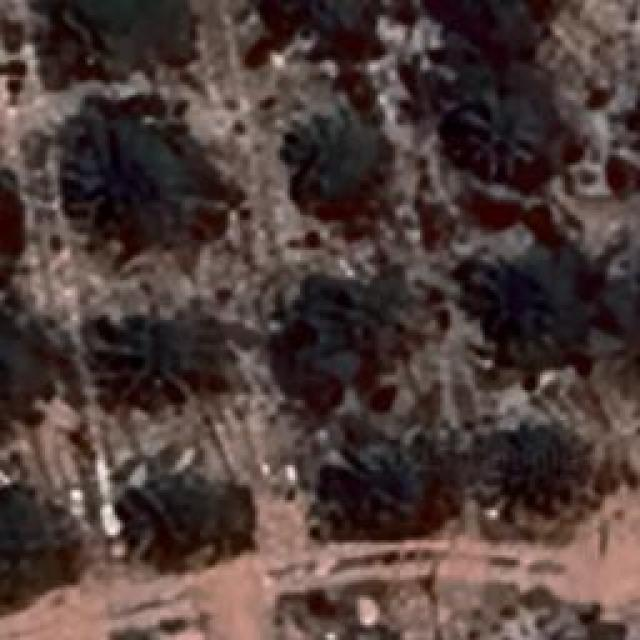PalmTree: (27, 96, 87, 544), (87, 28, 482, 96), (320, 410, 435, 560), (62, 135, 188, 263), (100, 304, 212, 422), (114, 474, 236, 568), (470, 236, 570, 349), (278, 274, 378, 378), (290, 124, 382, 208), (56, 0, 139, 85), (496, 418, 576, 502), (282, 0, 378, 68), (460, 98, 538, 180), (605, 249, 640, 376), (0, 328, 29, 428), (0, 333, 19, 432)
